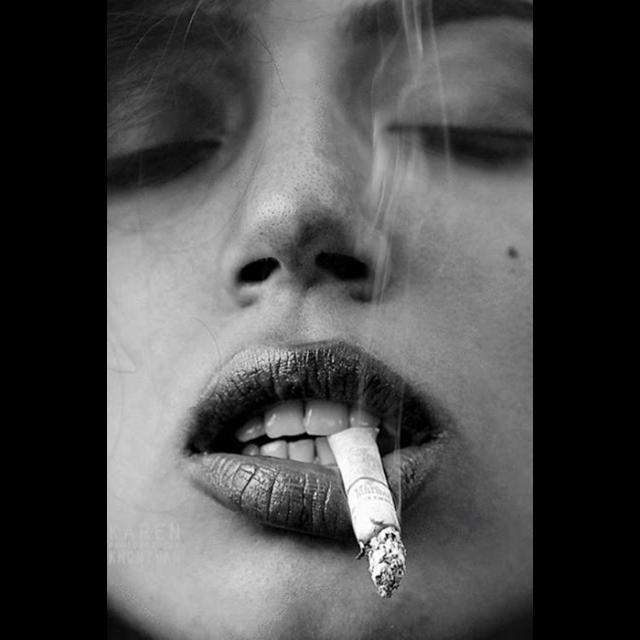rokok: (321, 418, 421, 608)
